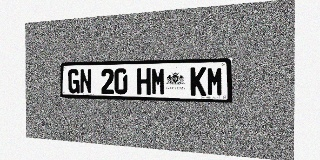0: (114, 68, 127, 94)
2: (101, 68, 114, 94)
G: (68, 69, 80, 93)
H: (137, 68, 151, 95)
K: (190, 67, 206, 96)
M: (207, 67, 223, 96), (151, 68, 166, 95)
N: (80, 69, 92, 94)
